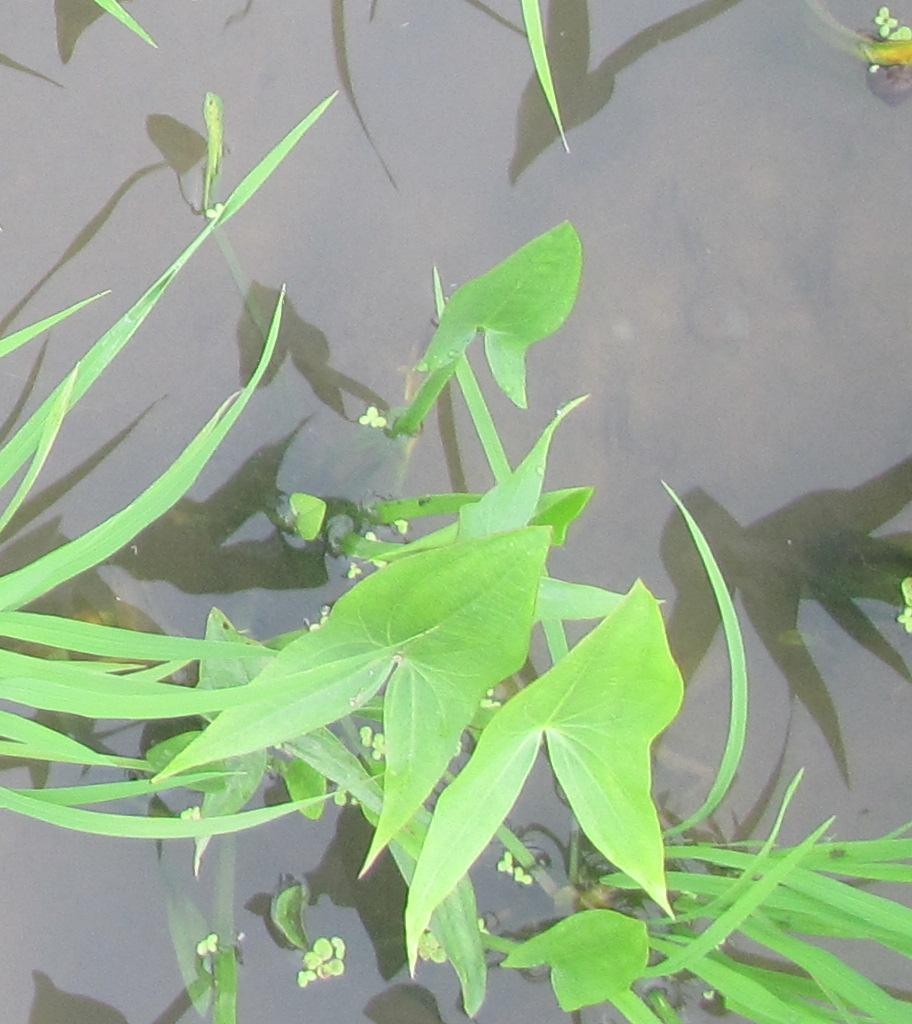Weed: (225, 527, 675, 925), (400, 216, 592, 417)
